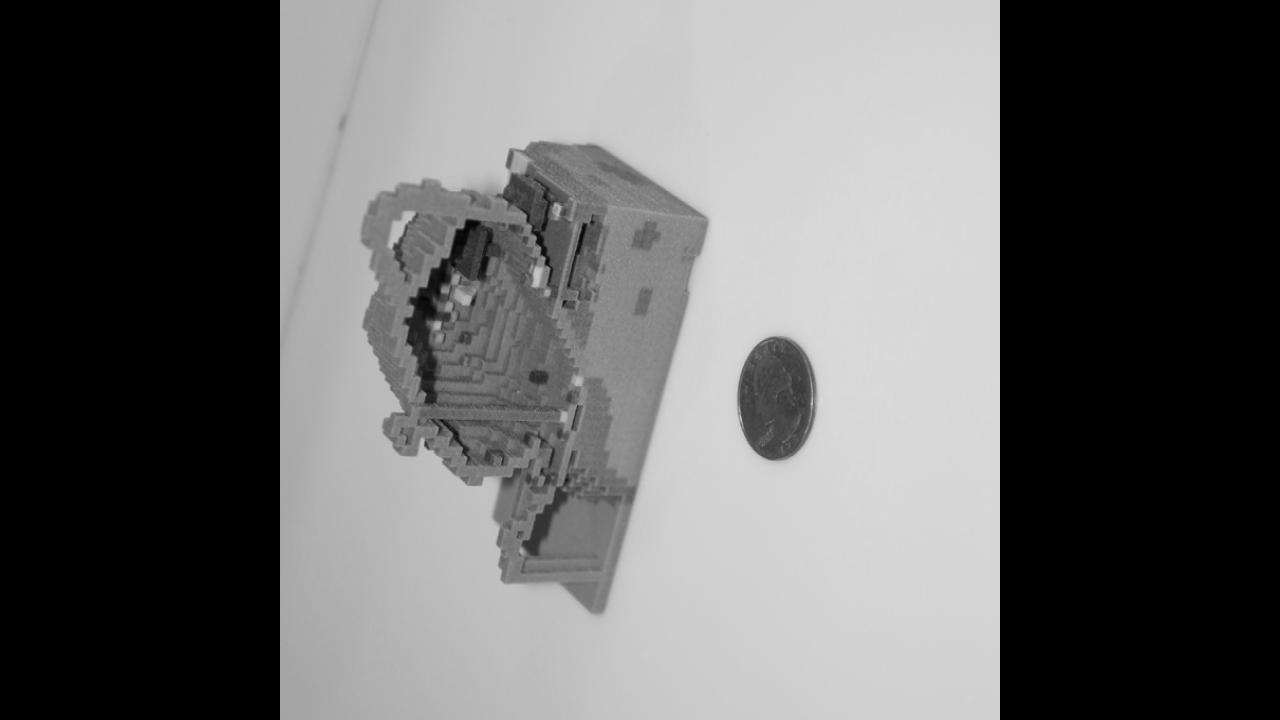coin: (736, 334, 816, 463)
